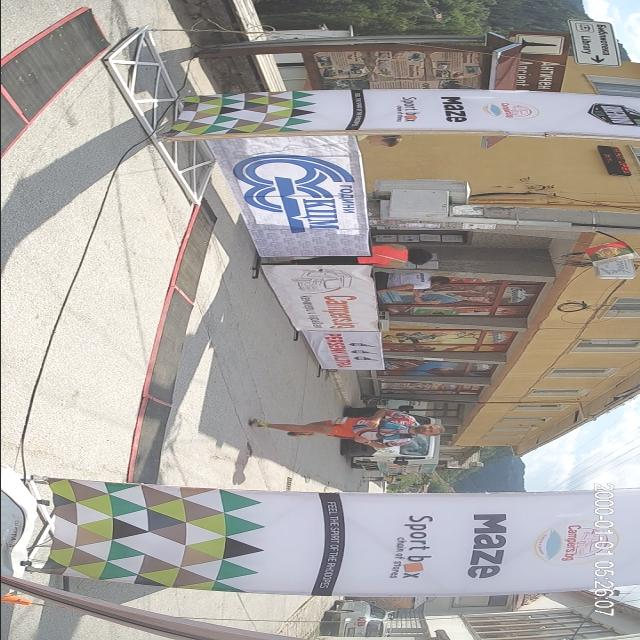runner: (237, 404, 447, 448)
